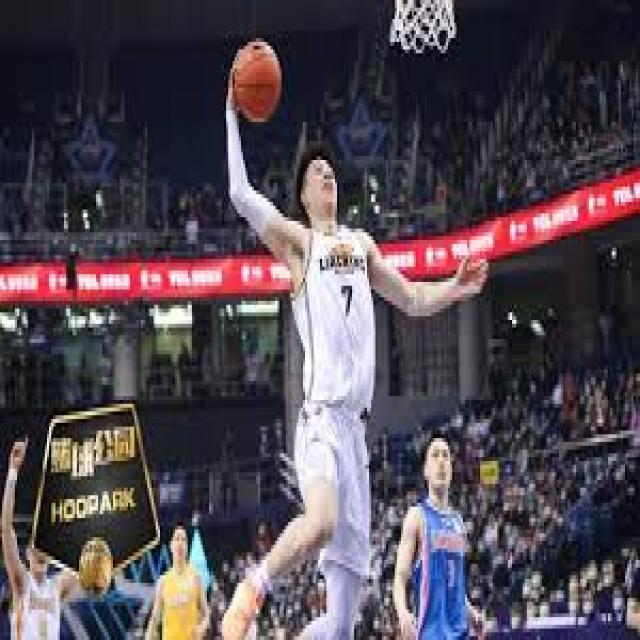rim: (230, 38, 282, 122)
